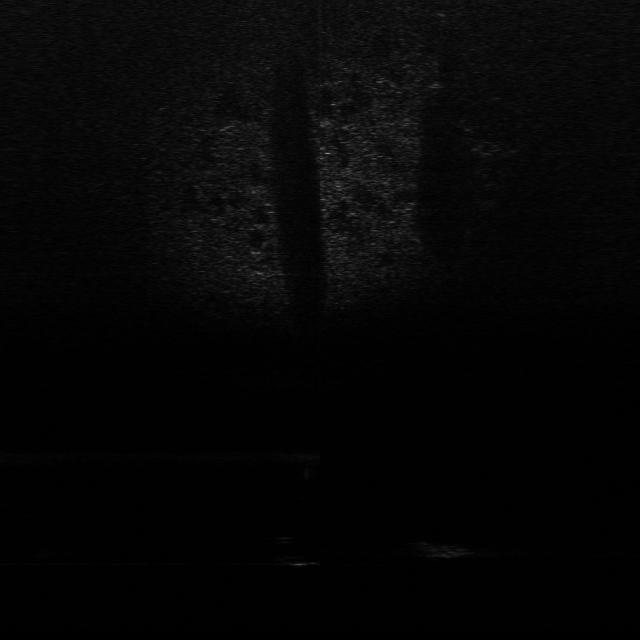metal bucket: (404, 526, 494, 562)
tyre: (270, 530, 332, 571)
